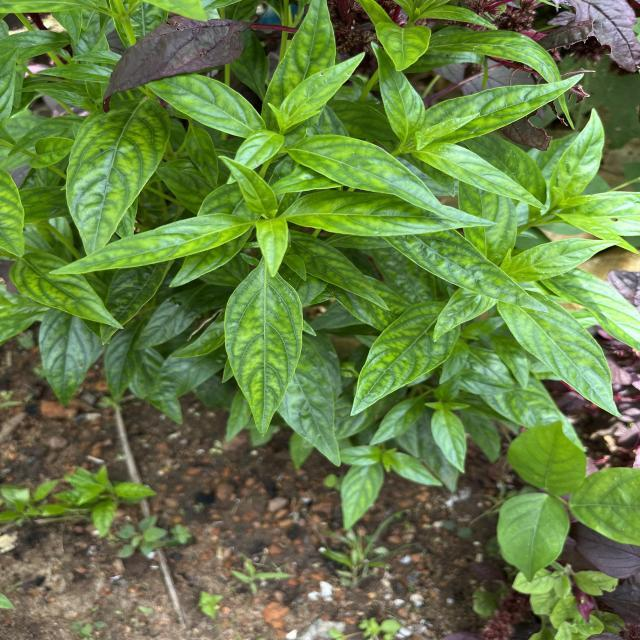Andrographis paniculata: (64, 95, 174, 255), (497, 292, 626, 419), (284, 132, 462, 224), (220, 264, 308, 438), (386, 233, 552, 317), (348, 300, 463, 417), (42, 212, 252, 276), (419, 70, 586, 145), (256, 0, 343, 120), (287, 189, 501, 237), (7, 250, 126, 330), (410, 144, 550, 211), (278, 52, 368, 125), (504, 238, 621, 282), (216, 152, 281, 218)
